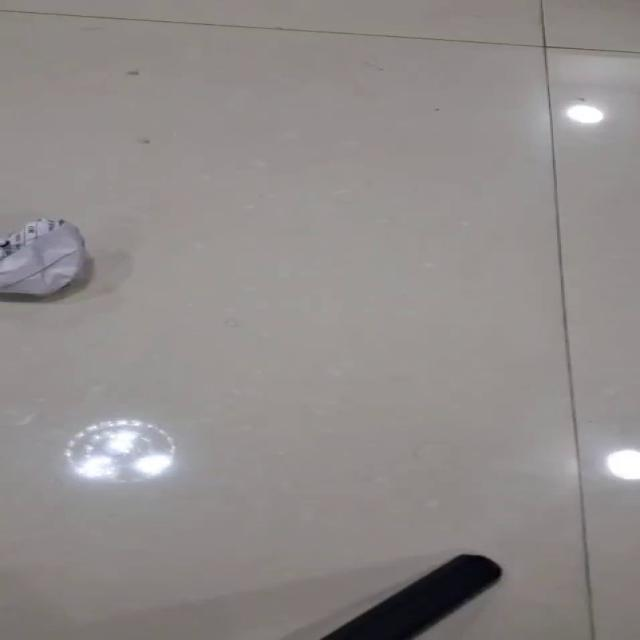paper: (0, 217, 86, 297)
